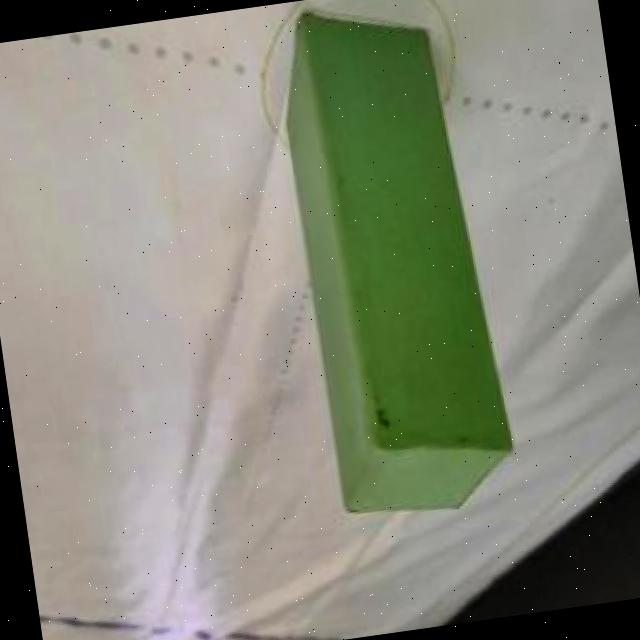greenbox: (272, 0, 523, 531)
